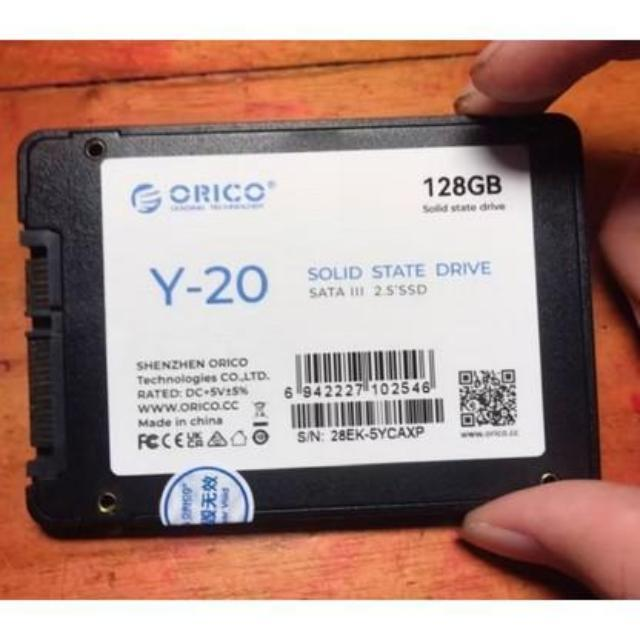DISK: (13, 112, 604, 534)
